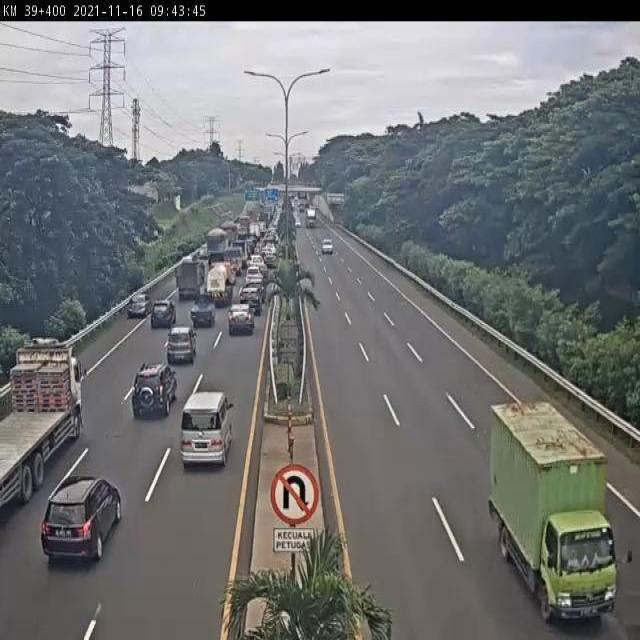car: (41, 475, 123, 563), (180, 391, 233, 469), (131, 364, 177, 419), (165, 330, 197, 370), (228, 304, 255, 340), (190, 295, 216, 329), (150, 299, 176, 331), (240, 288, 262, 315), (127, 293, 152, 316), (246, 279, 266, 300), (246, 265, 264, 284), (248, 255, 264, 267), (294, 217, 301, 227)
truck: (491, 400, 618, 625), (0, 345, 84, 508), (175, 257, 206, 300), (206, 261, 234, 307), (206, 230, 228, 266), (223, 247, 242, 275), (306, 208, 316, 227)
